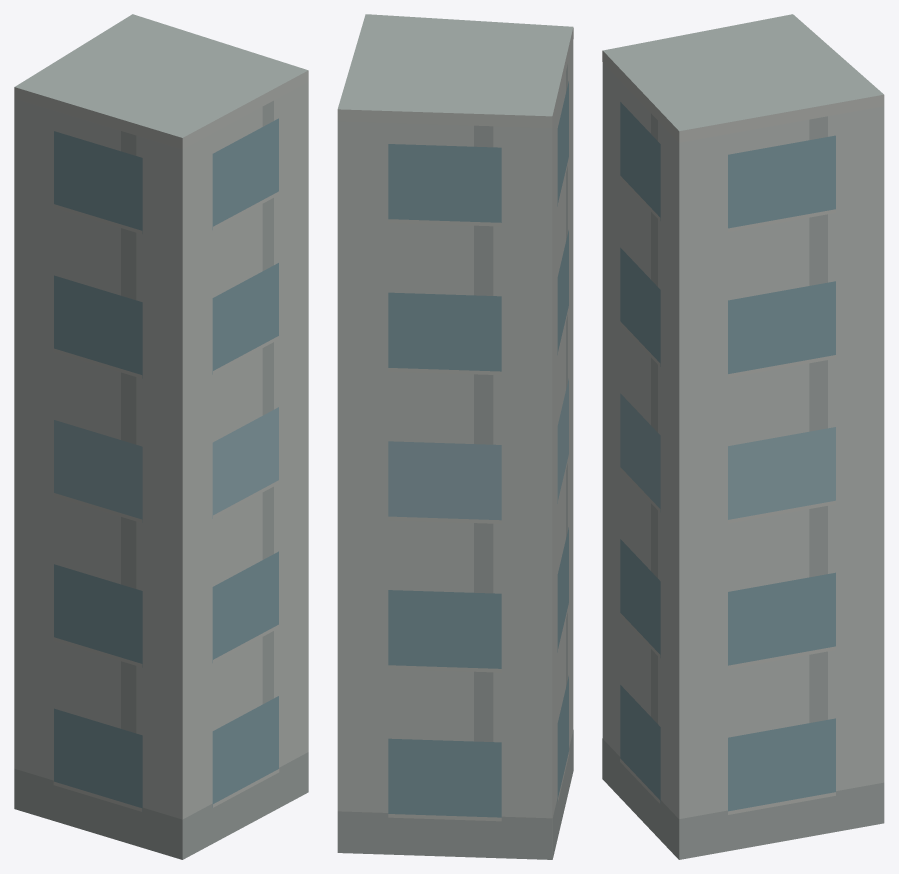
Rendered from survey-upis-33044663.glb.
3 renders of one model, left to right at view 1: azimuth 30°, elevation 25°; view 2: azimuth 150°, elevation 25°; view 3: azimuth 270°, elevation 25°, orthographic. The views are drawn at different scales.
Visible parts, largest first — view 1: survey-upis-33044663.tmp; view 2: survey-upis-33044663.tmp; view 3: survey-upis-33044663.tmp.
Boxes of the visible parts, left/top/right/bottom form: survey-upis-33044663.tmp: left=14, top=14, right=308, bottom=859; survey-upis-33044663.tmp: left=337, top=14, right=573, bottom=859; survey-upis-33044663.tmp: left=602, top=14, right=884, bottom=859.
Bounding box in the file's own units: 5.27 × 15.25 × 5.35.
